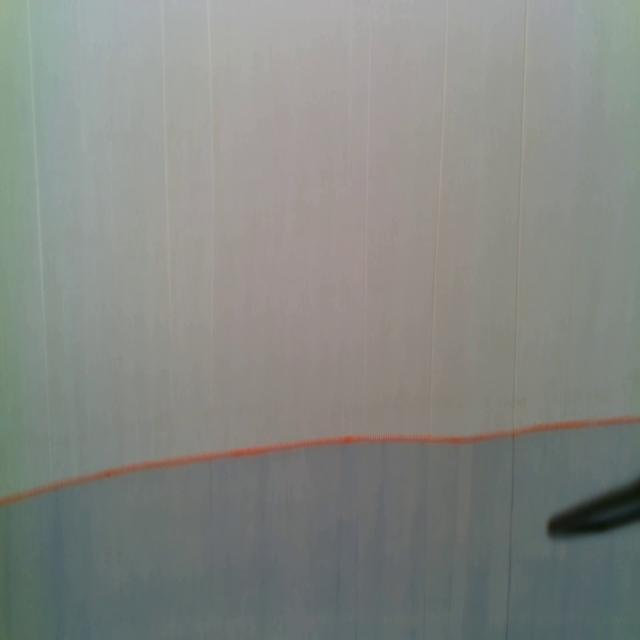crease: (504, 0, 529, 640), (26, 0, 56, 484), (426, 0, 449, 435), (157, 0, 178, 456), (356, 0, 376, 406), (204, 0, 215, 367)
